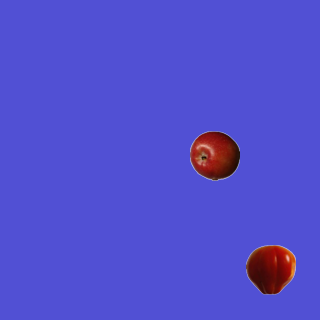Apple Braeburn: (189, 130, 239, 180)
Tomato 1: (245, 244, 295, 294)
